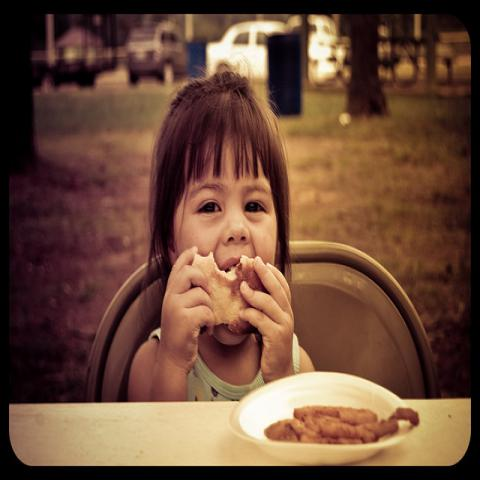car: (203, 19, 287, 84), (48, 32, 116, 92), (127, 23, 190, 87), (307, 15, 350, 84)
